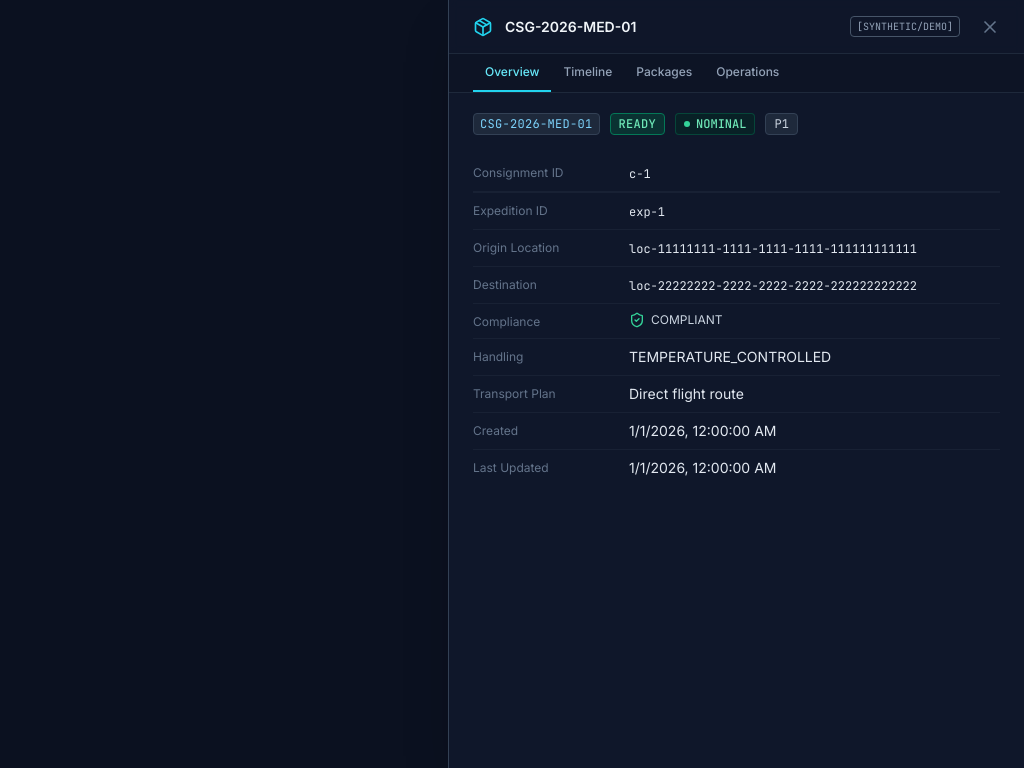
Scenario: ConsignmentDetailPanel › renders consignment overview and switches tabs
Expected: the text "Direct flight route" is shown, [629, 384, 744, 404]
Expected: the text "TEMPERATURE_CONTROLLED" is shown, [629, 347, 831, 367]
// Switch to Timeline tab
Click the button "Timeline" at (588, 73), box [552, 54, 624, 92]
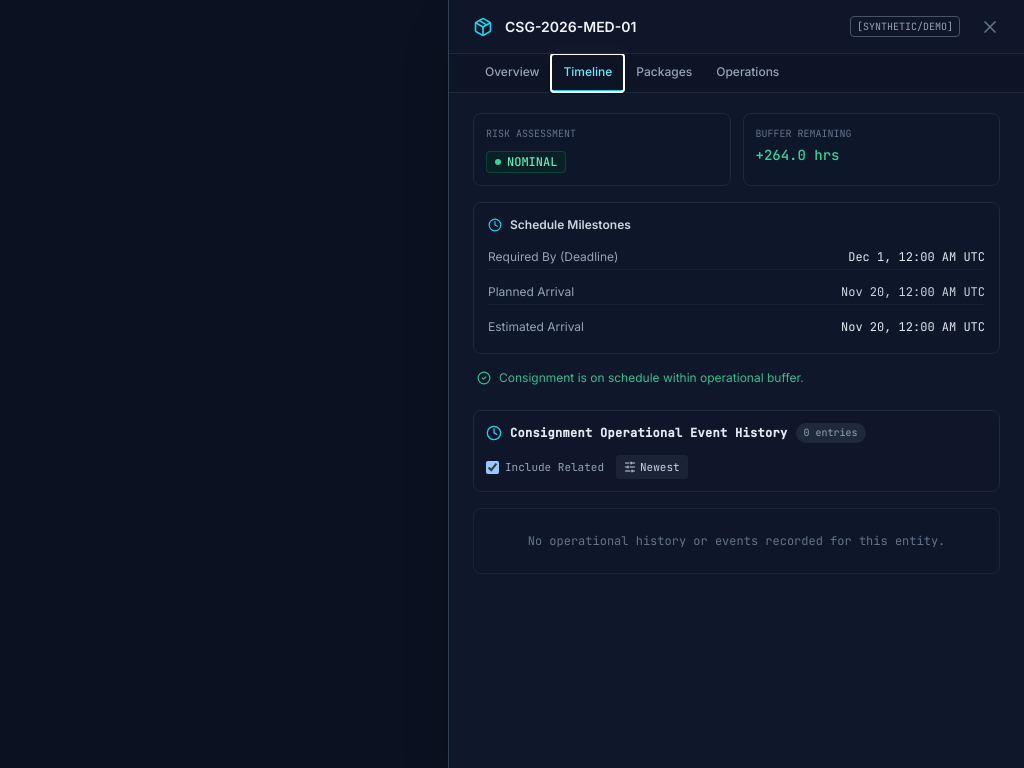
Expected: the text "Schedule Milestones" is shown, [488, 217, 631, 232]
Expected: the text "+264.0 hrs" is shown, [756, 146, 840, 164]
